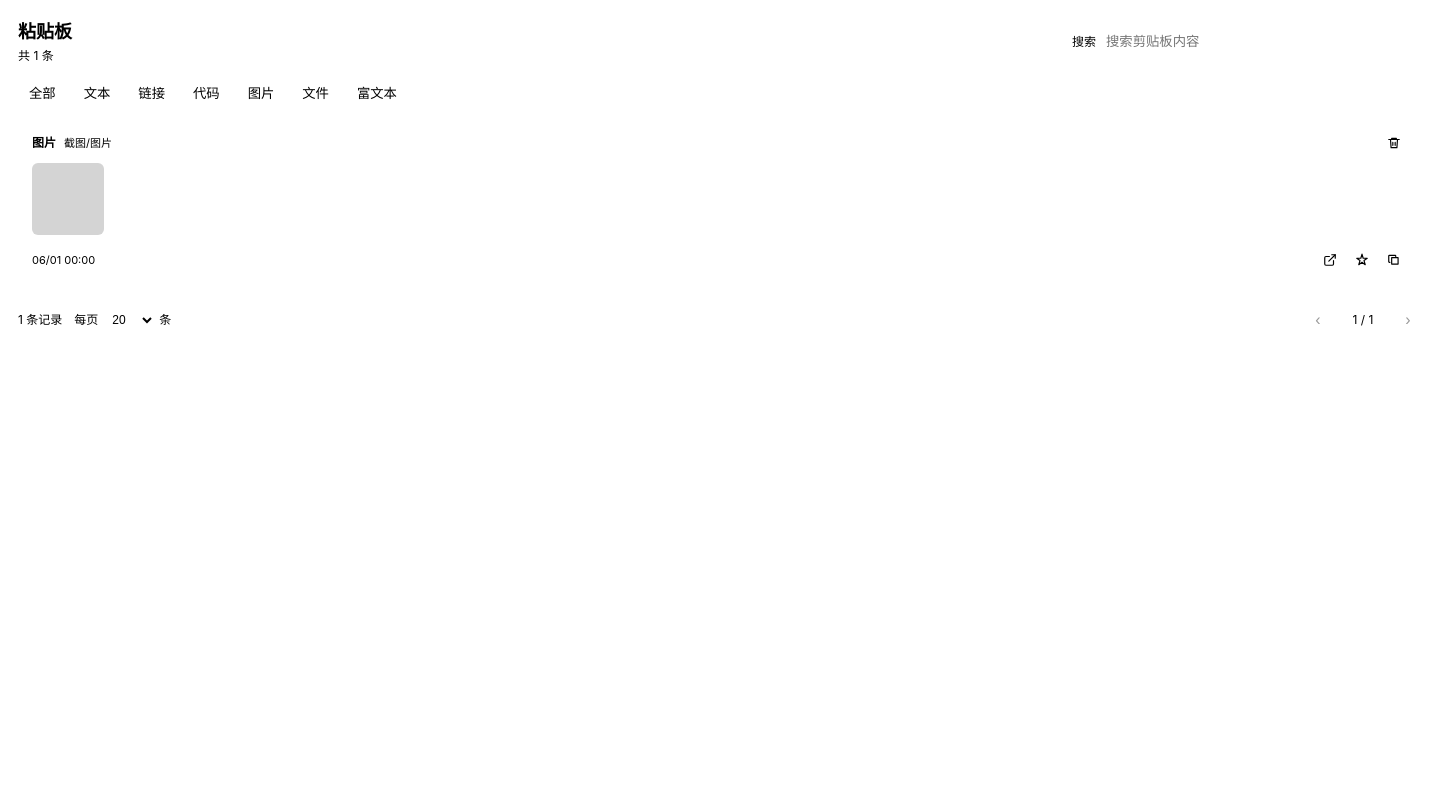
Test case: ClipboardView › opens image entries in the built-in image editor
The width and height of the screenshot is (1440, 810).
Click the button with test id "clipboard-open-img-1" at (1330, 260), box [1316,246,1344,274]
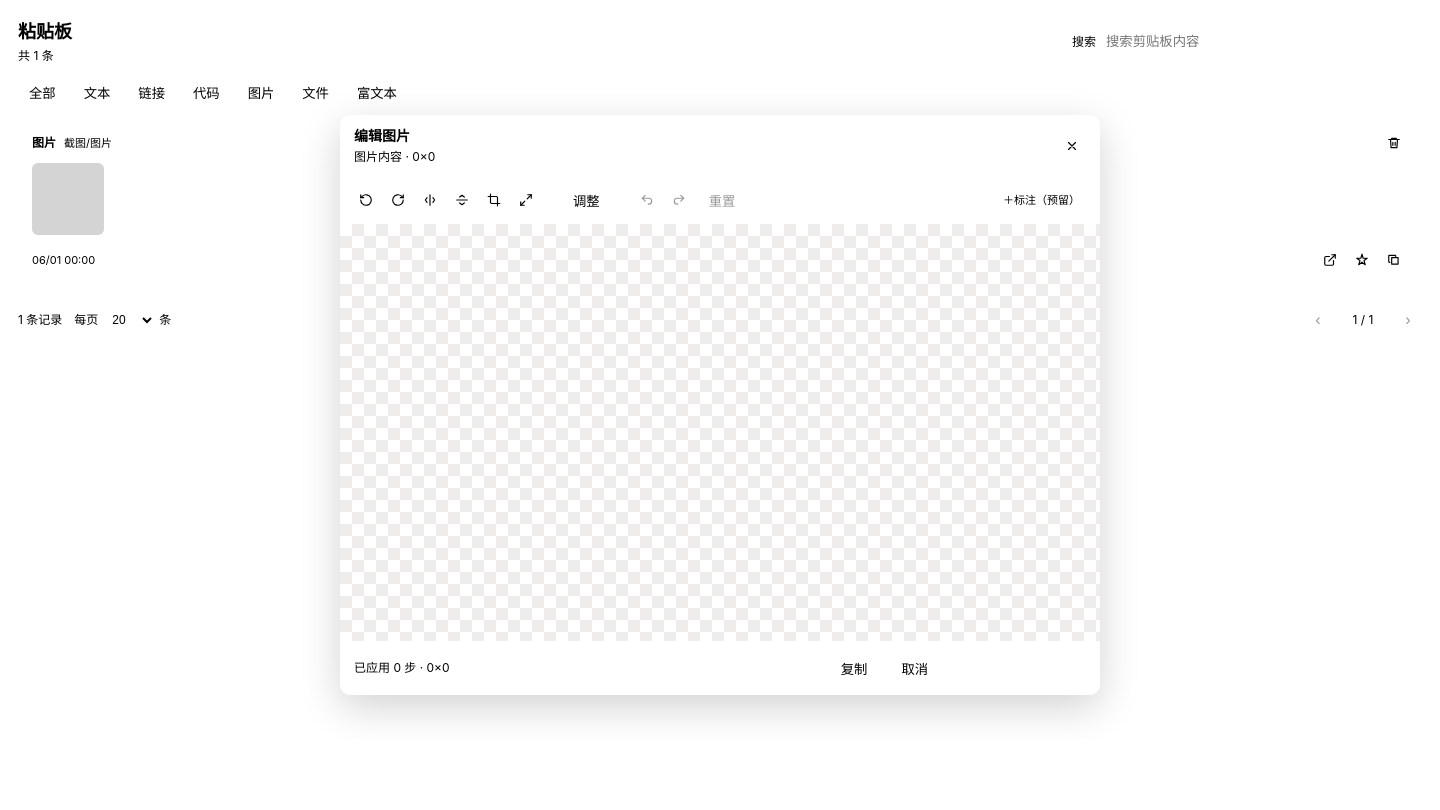
Result: the dialog with test id "clip-image-editor" is shown at [340,115,1100,695]
Click the button with test id "clip-editor-close" at (1072, 146), box [1058,132,1086,160]
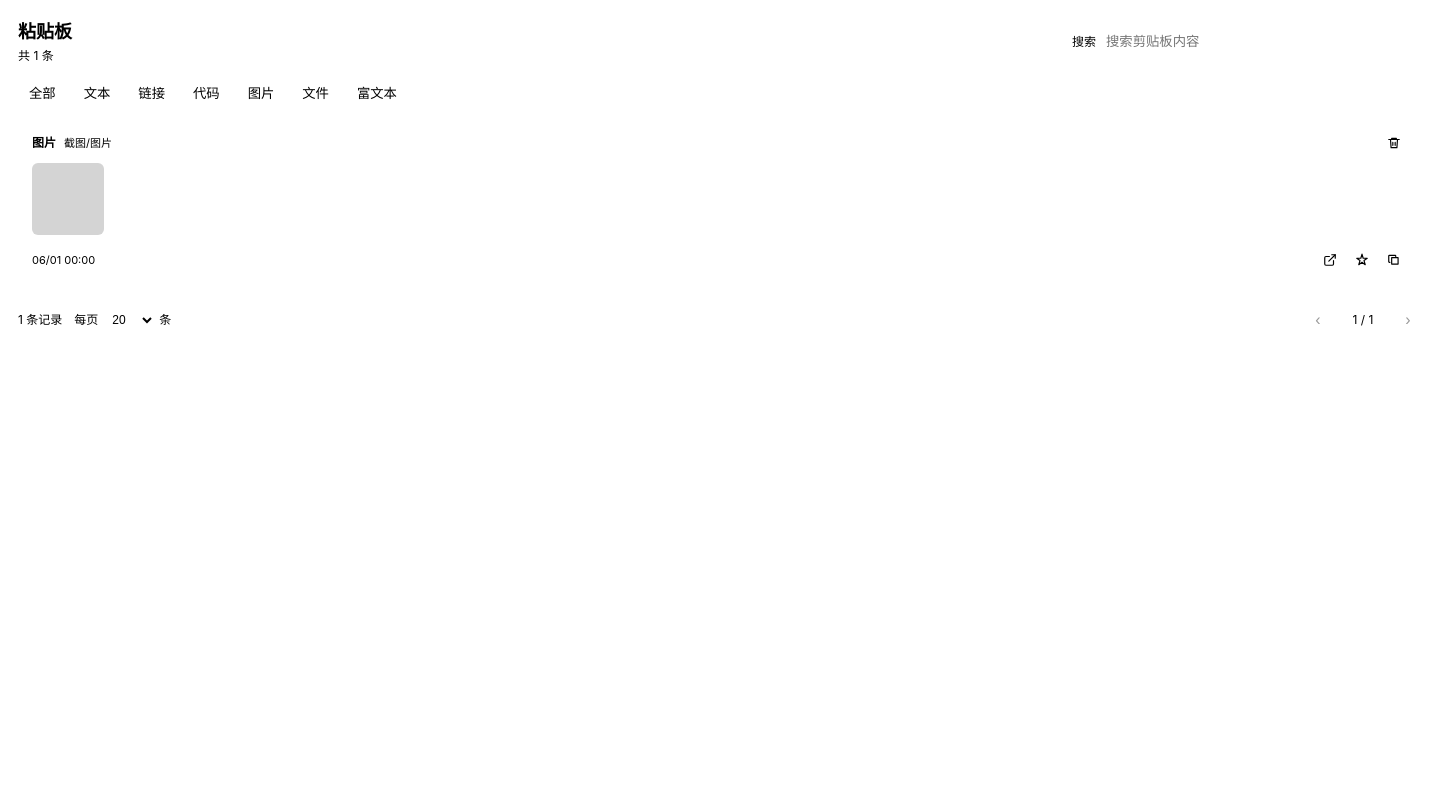
Result: the dialog with test id "clip-image-editor" is gone
